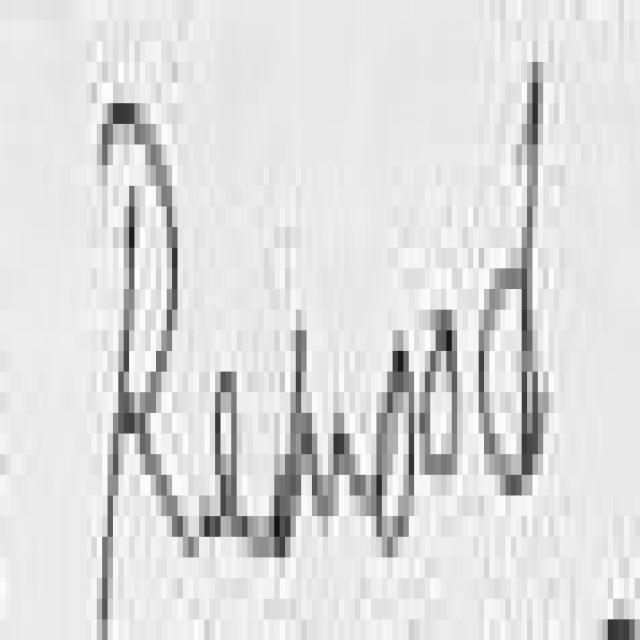R: (85, 43, 198, 634)
d: (481, 37, 554, 540)
e: (202, 309, 270, 591)
m: (274, 296, 372, 604)
o: (374, 309, 420, 578), (420, 273, 468, 514)
